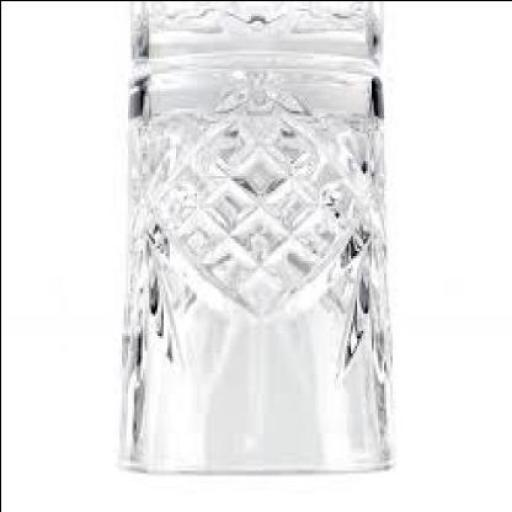glass: (117, 57, 395, 477)
